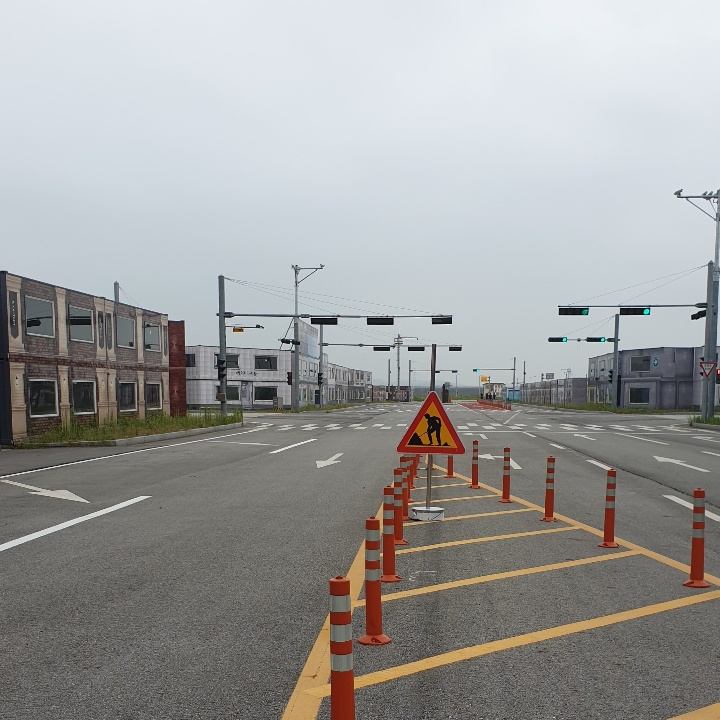const: (407, 403, 454, 447)
